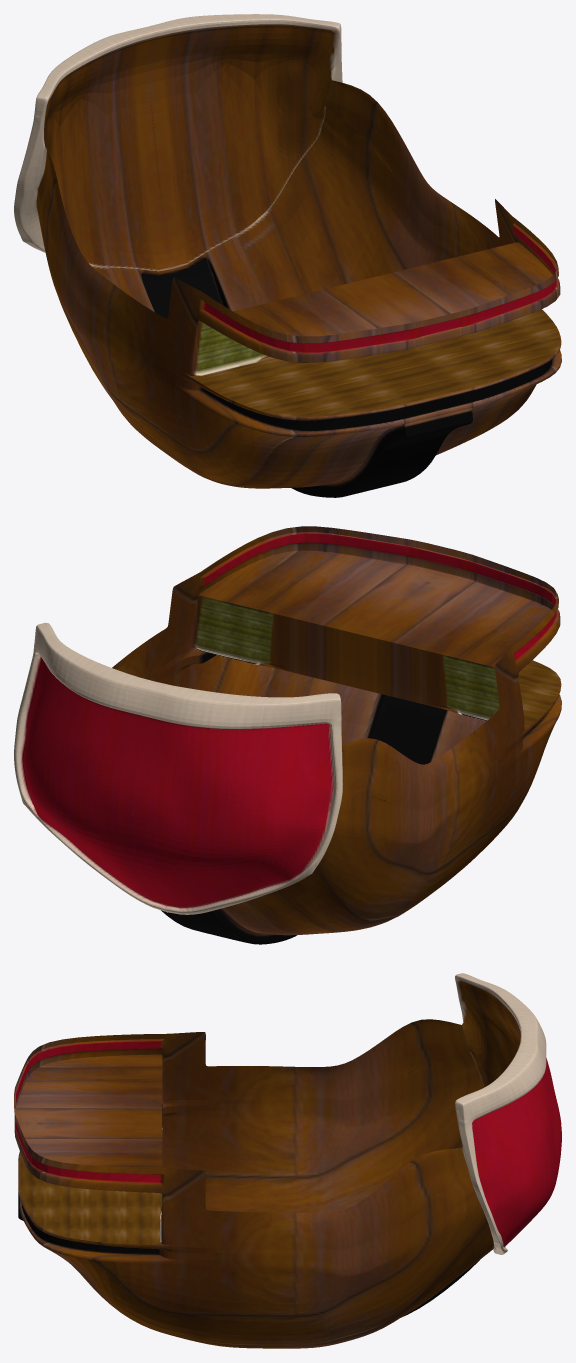
File: Esqueleto.fbx
The picture shows the model from 3 angles, top to bottom: view 1: azimuth 30°, elevation 25°; view 2: azimuth 150°, elevation 25°; view 3: azimuth 270°, elevation 25°; orthographic projection. The views are drawn at different scales.
Parts seen in each view (by area): view 1: Esqueleto; view 2: Esqueleto; view 3: Esqueleto.
Boxes of the visible parts, x1,y1,x2,y2 form: Esqueleto: (14,14,561,497); Esqueleto: (14,526,561,944); Esqueleto: (14,973,561,1348).
Size of the model in its own units: 2690 by 2410 by 4106.
Materials: 1 (1 with a texture image).
